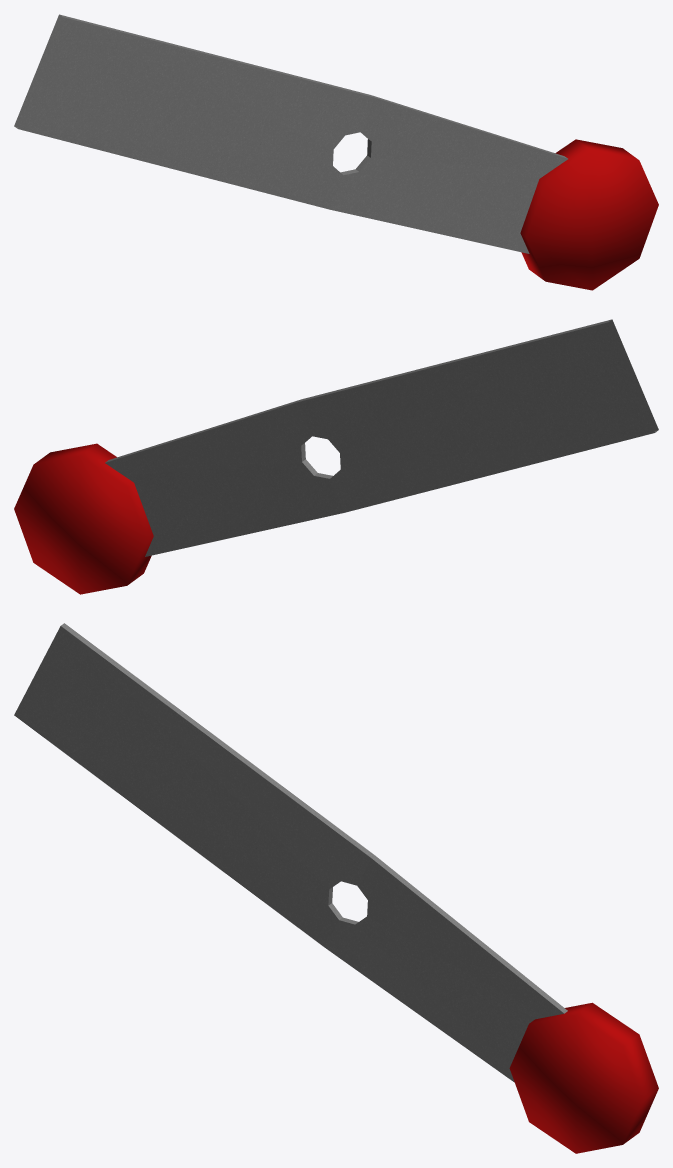
The model's file is Handle.fbx.
3 renders of one model, top to bottom at view 1: azimuth 30°, elevation 25°; view 2: azimuth 150°, elevation 25°; view 3: azimuth 330°, elevation 25°, orthographic.
Parts seen in each view (by area): view 1: Handle; view 2: Handle; view 3: Handle.
Part boxes in pixels (x1,y1,x2,y2): Handle: [14, 14, 658, 290]; Handle: [14, 319, 658, 594]; Handle: [14, 623, 658, 1153].
Bounding box in the file's own units: 91.82 × 54.7 × 4.19.
